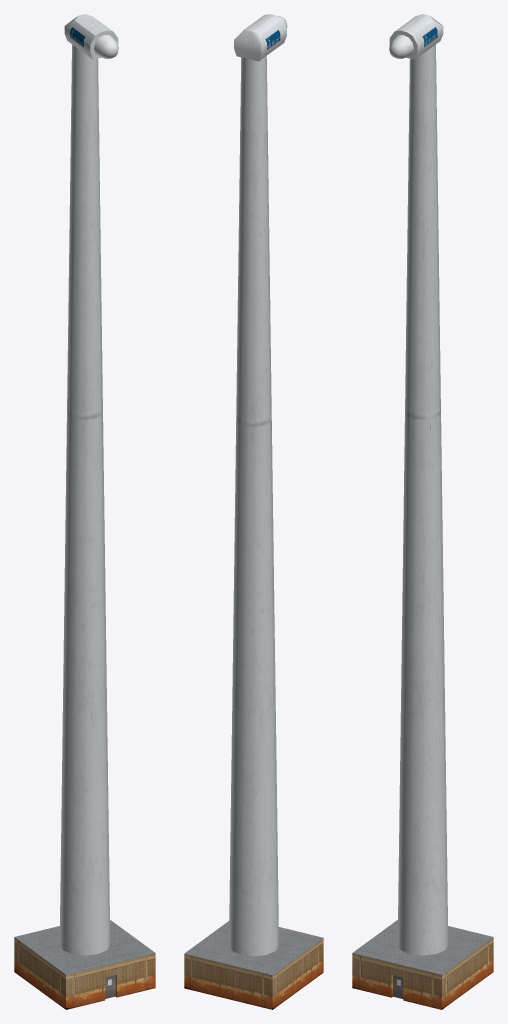
The model's file is windmill_base.DAE.
3 renders of one model, left to right at view 1: azimuth 30°, elevation 25°; view 2: azimuth 150°, elevation 25°; view 3: azimuth 330°, elevation 25°, orthographic.
Parts seen in each view (by area): view 1: Cone001, Box001, Box002, Sphere001; view 2: Cone001, Box001, Box002; view 3: Cone001, Box001, Box002, Sphere001.
Boxes of the visible parts, <box> form: Cone001: <box>59,44,110,955</box>; Box001: <box>14,920,155,1009</box>; Box002: <box>64,14,118,59</box>; Sphere001: <box>94,35,118,58</box>; Cone001: <box>229,56,278,956</box>; Box001: <box>184,921,323,1009</box>; Box002: <box>234,14,286,61</box>; Cone001: <box>397,44,448,955</box>; Box001: <box>352,920,493,1009</box>; Box002: <box>389,14,443,59</box>; Sphere001: <box>389,35,413,58</box>.
Size of the model in its own units: 315 by 335 by 3236.
